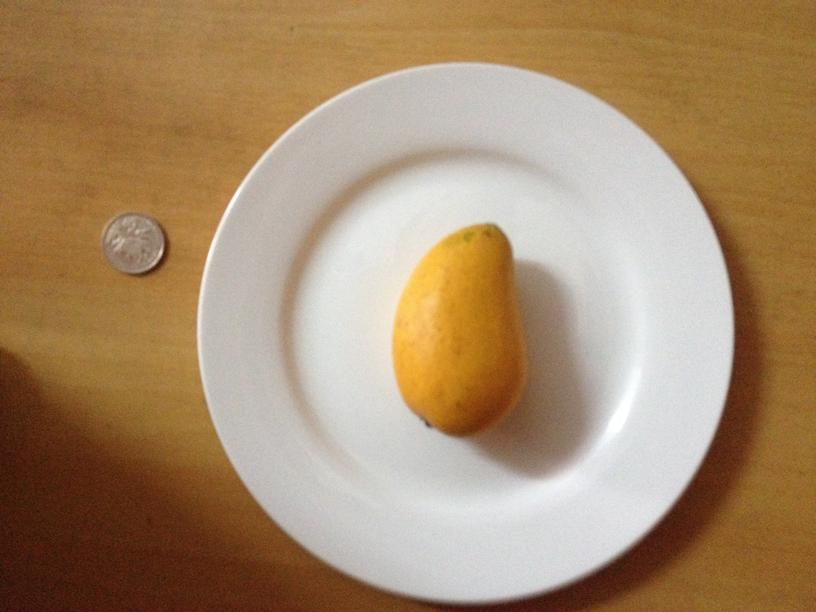coin: (101, 213, 165, 276)
mango: (389, 222, 530, 436)
